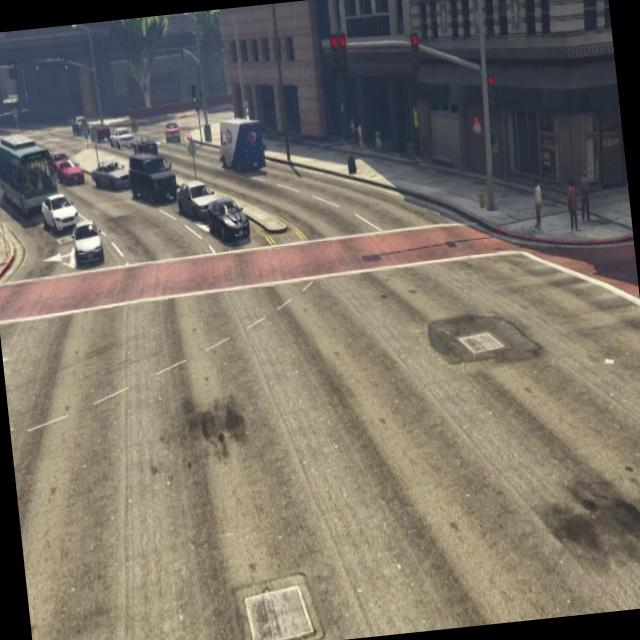Red-Signal: (324, 24, 354, 91), (405, 23, 427, 82), (485, 70, 503, 118)
